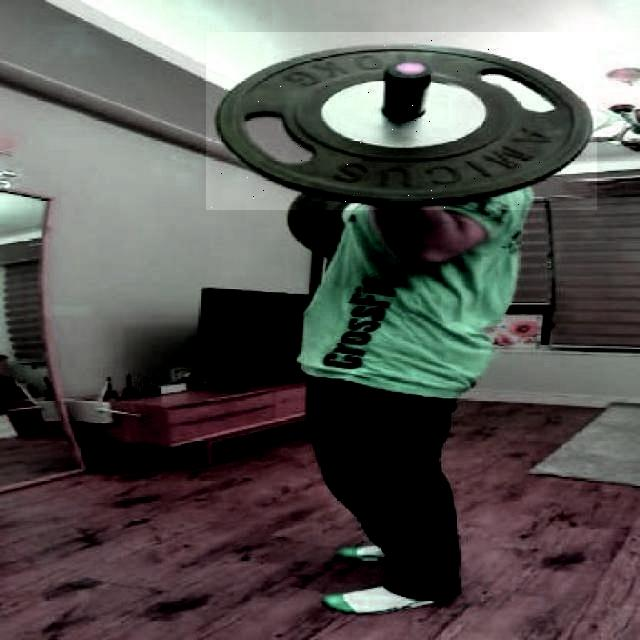barbell: (207, 32, 597, 211)
